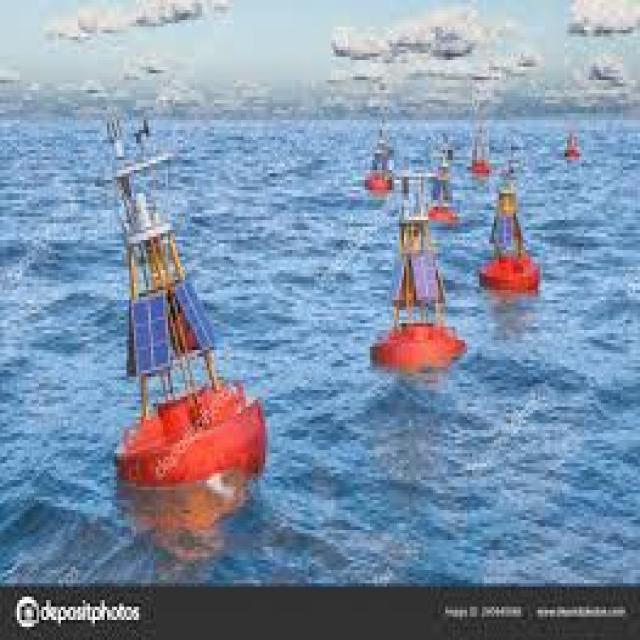marque: (92, 96, 275, 513)
